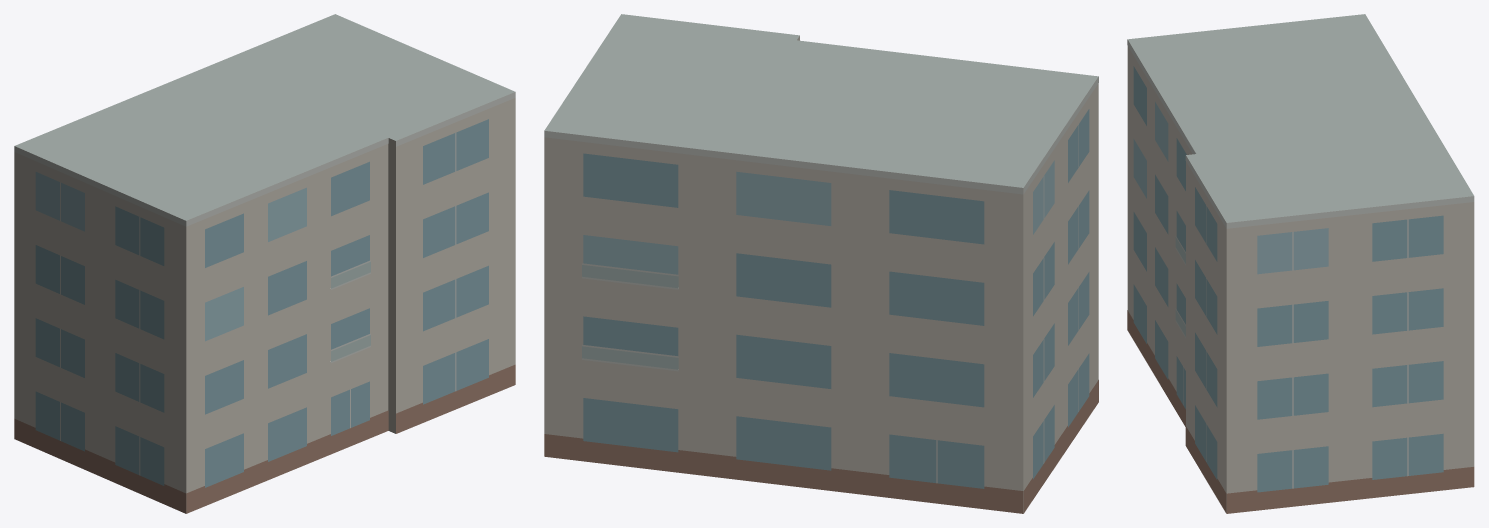
File: survey-upis-32676947.glb
3 views of the same model, side by side, from view 1: azimuth 30°, elevation 25°; view 2: azimuth 150°, elevation 25°; view 3: azimuth 270°, elevation 25° (orthographic). The views are drawn at different scales.
Parts seen in each view (by area): view 1: survey-upis-32676947.tmp; view 2: survey-upis-32676947.tmp; view 3: survey-upis-32676947.tmp.
Boxes of the visible parts, x1,y1,x2,y2 form: survey-upis-32676947.tmp: (14, 14, 515, 513); survey-upis-32676947.tmp: (544, 14, 1098, 513); survey-upis-32676947.tmp: (1127, 14, 1474, 513).
Size of the model in its own units: 18.75 by 12.16 by 13.15.
